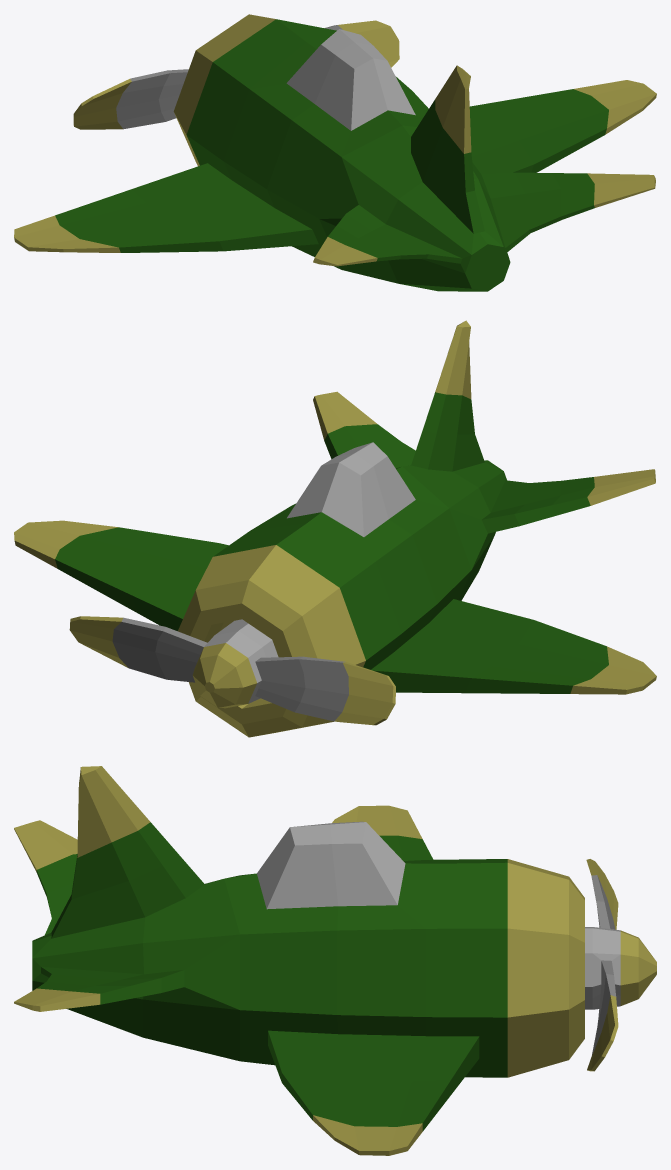
Rendered from airplane.glb.
3 renders of one model, top to bottom at view 1: azimuth 30°, elevation 25°; view 2: azimuth 150°, elevation 25°; view 3: azimuth 270°, elevation 25°, orthographic. The views are drawn at different scales.
Visible parts, largest first — view 1: Cylinder, Cylinder.001; view 2: Cylinder, Cylinder.001; view 3: Cylinder, Cylinder.001.
Part boxes in pixels (left/top/right/bottom): Cylinder: left=14, top=14, right=656, bottom=291; Cylinder.001: left=73, top=20, right=399, bottom=129; Cylinder: left=14, top=320, right=656, bottom=737; Cylinder.001: left=69, top=616, right=395, bottom=725; Cylinder: left=14, top=766, right=584, bottom=1155; Cylinder.001: left=585, top=859, right=656, bottom=1071.
Size of the model in its own units: 6.86 by 2.85 by 5.4.
